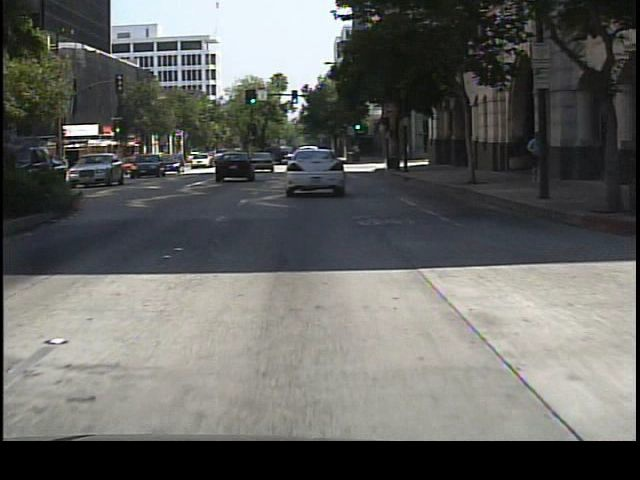person: (525, 128, 549, 192)
